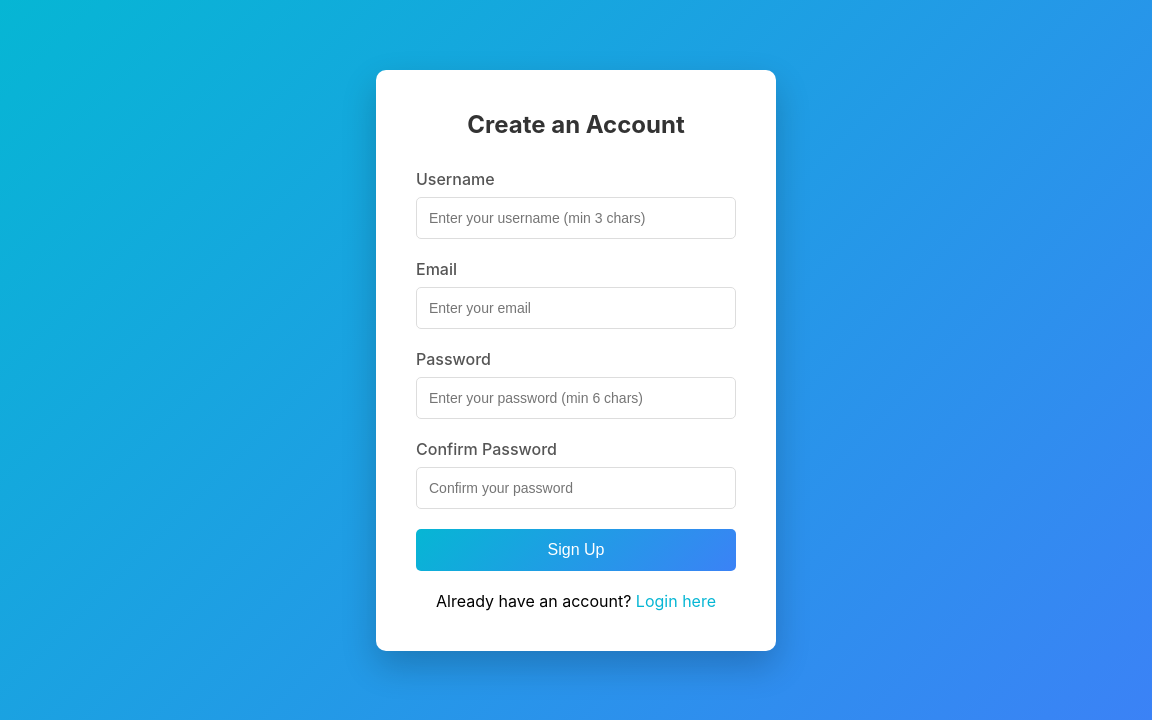
Test: Signup Component › shows error when passwords do not match
Type "testuser" into the field labelled "Username" at (576,218), box [416,196,736,238]
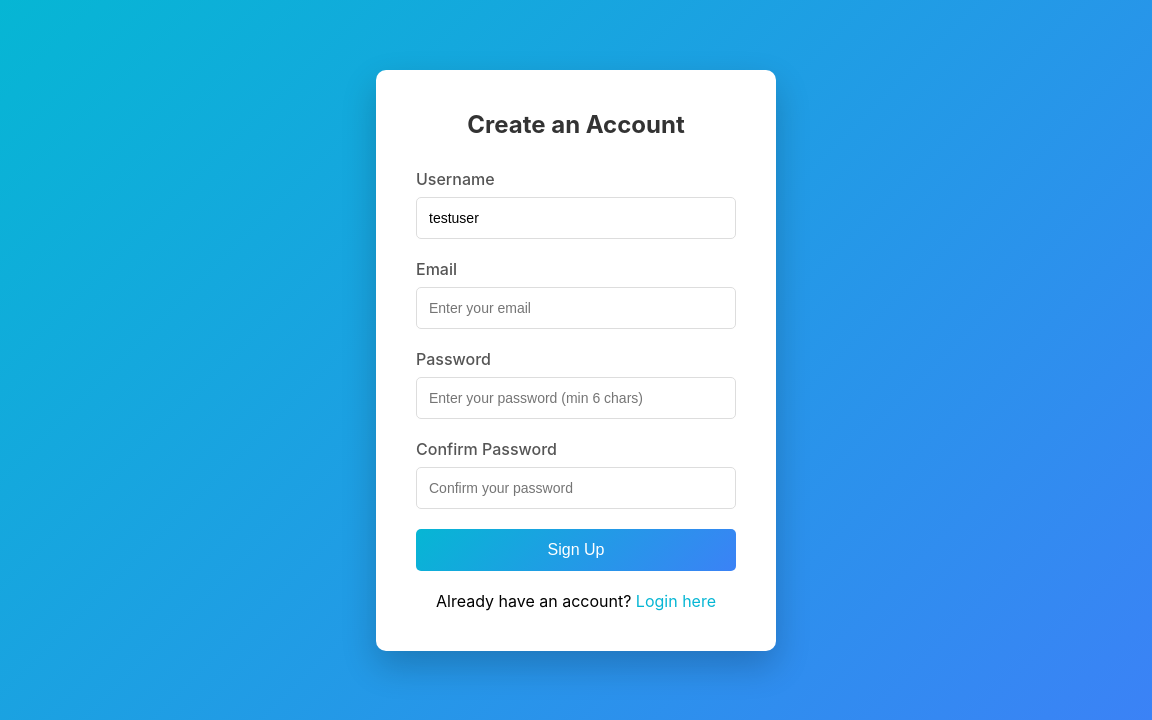
Type "test@example.com" into the field labelled "Email" at (576,308), box [416,286,736,328]
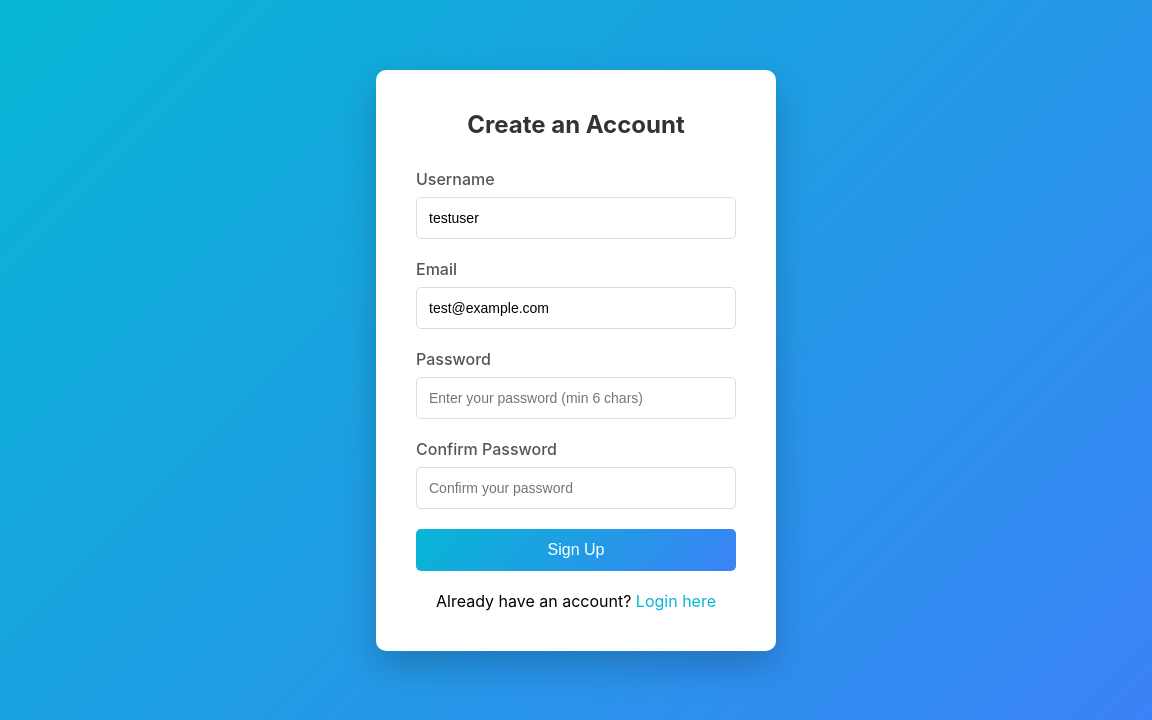
Type "password123" into the password field labelled "Password" at (576,398), box [416,376,736,418]
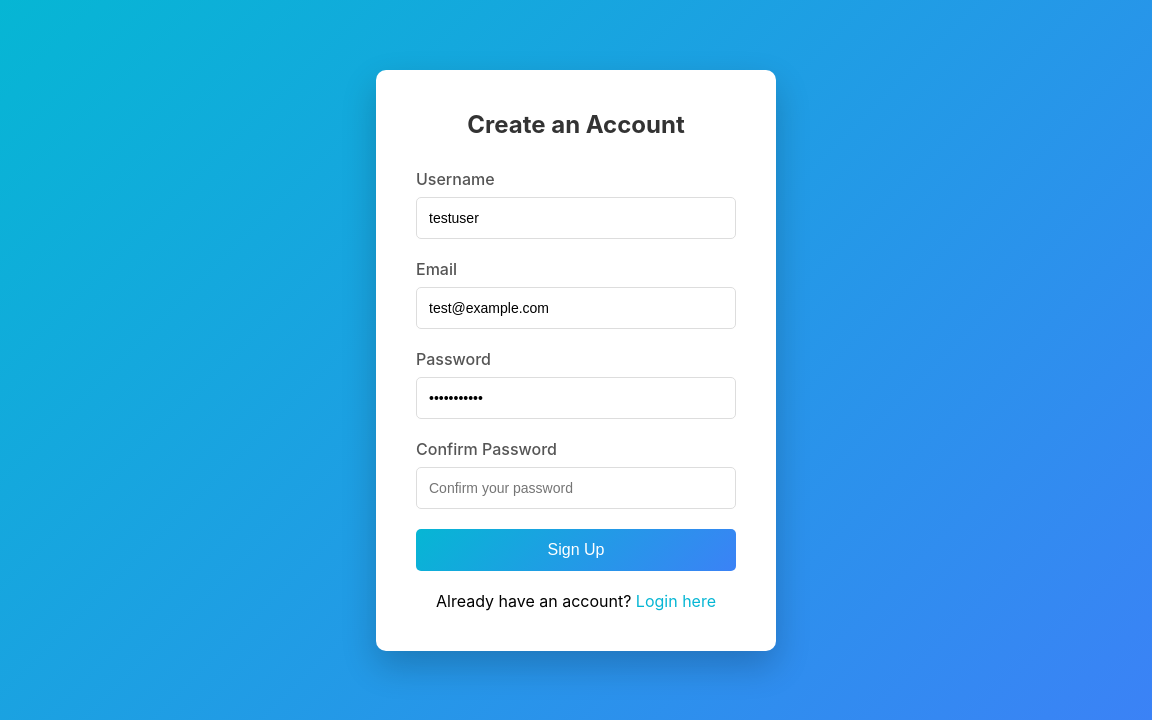
Type "password456" into the password field labelled "Confirm Password" at (576,488), box [416,466,736,508]
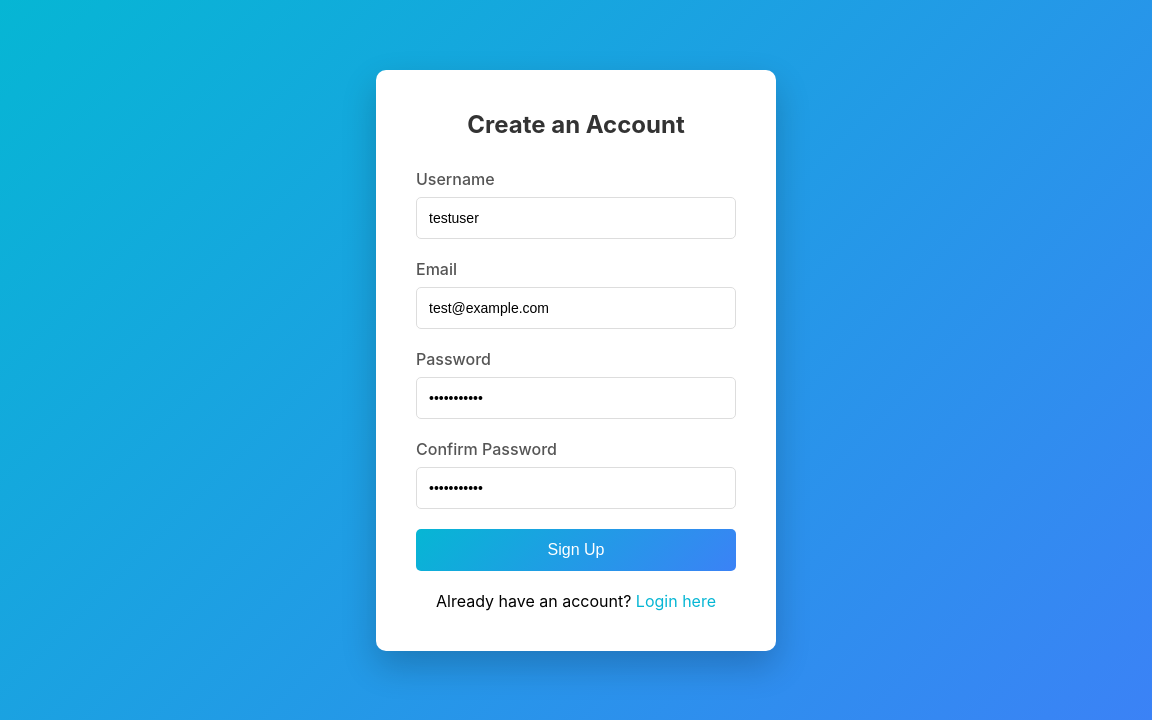
Click the button "Sign Up" at (576,550), box [416,528,736,570]
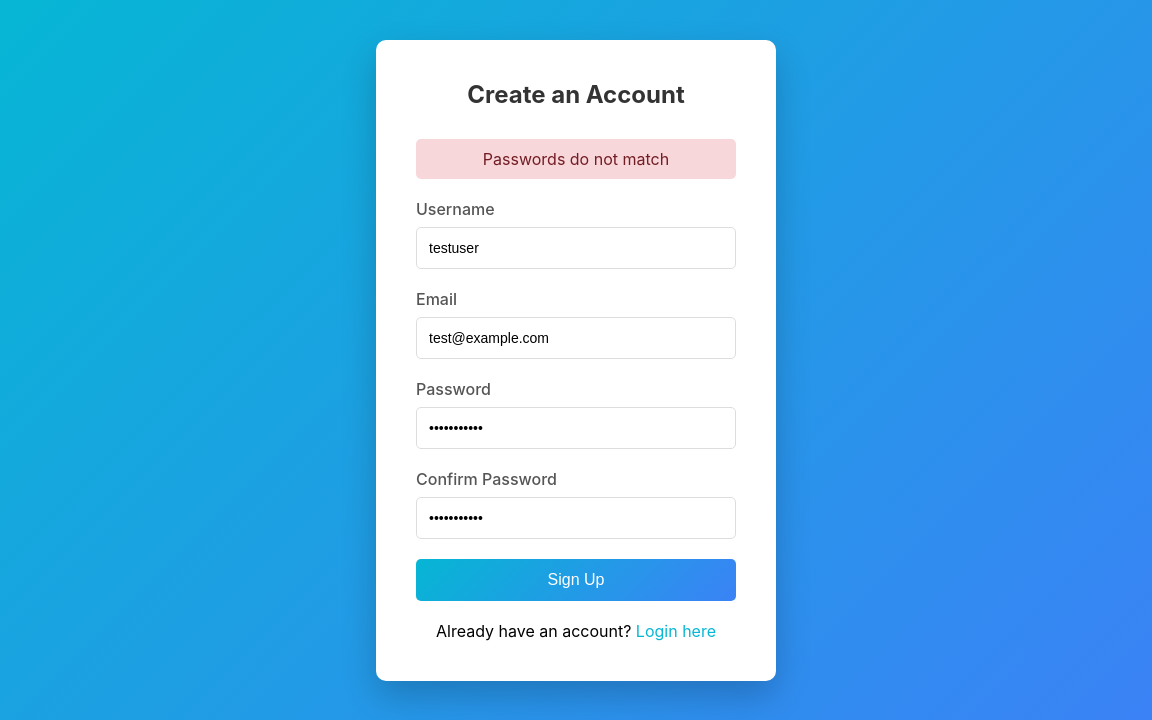
Check: the text "Passwords do not match" is shown, box [416,138,736,178]
